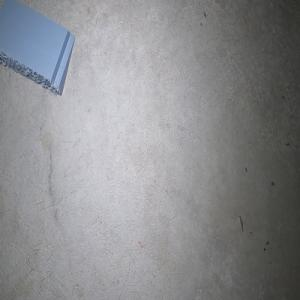PlasticPart: (0, 0, 75, 95)
